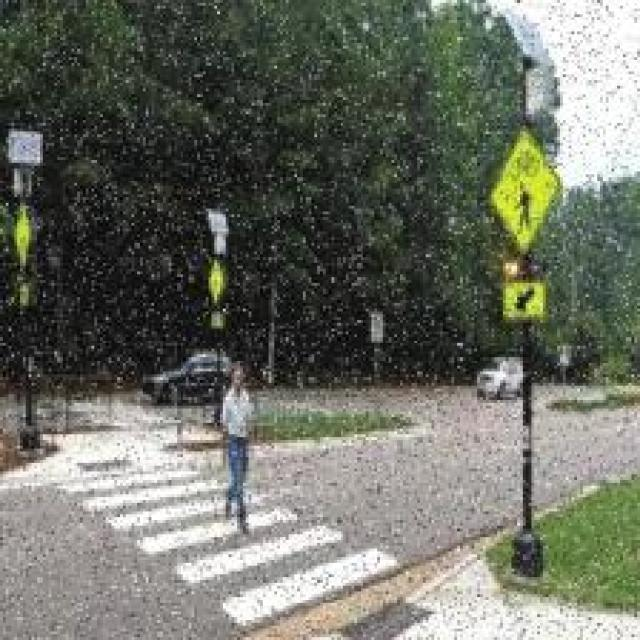crosswalk: (42, 450, 410, 635)
